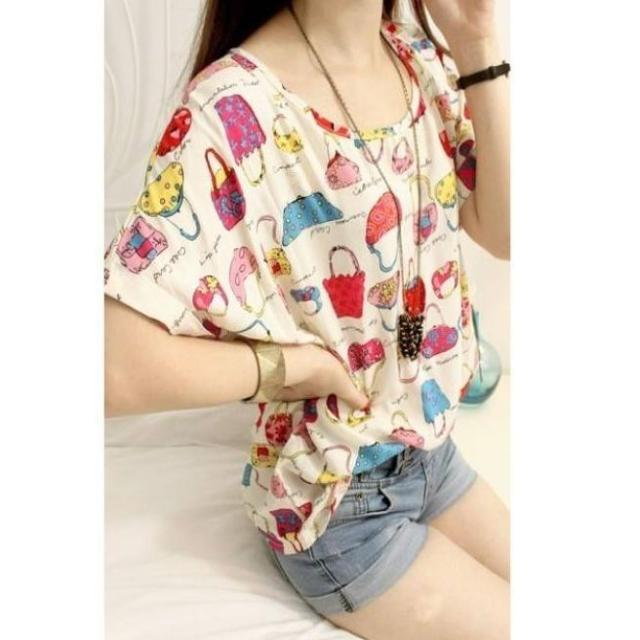short sleeve top: (104, 18, 503, 491)
shorts: (257, 400, 476, 619)
